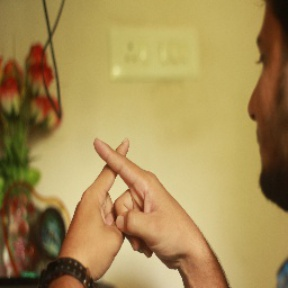X: (73, 126, 168, 222)
